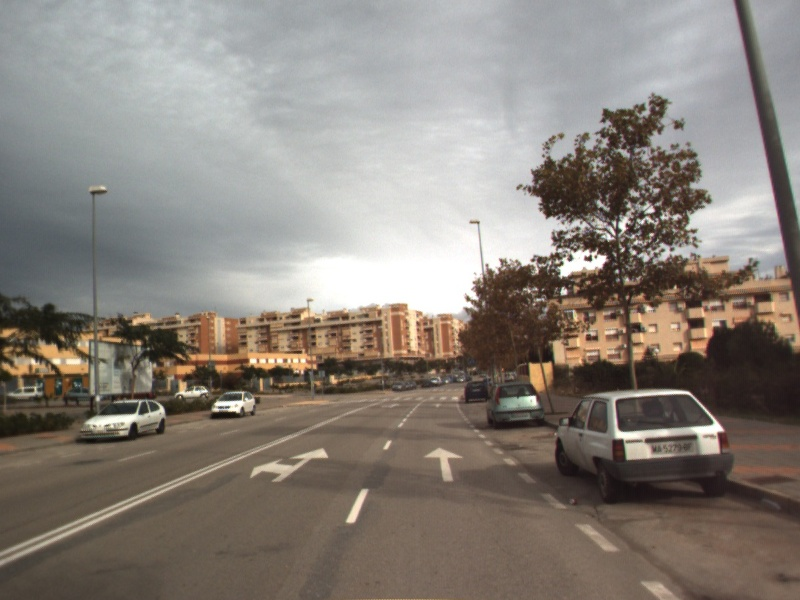STRAIGHT: (422, 445, 466, 483)
STRAIGHT_LEFT: (248, 446, 330, 484)
